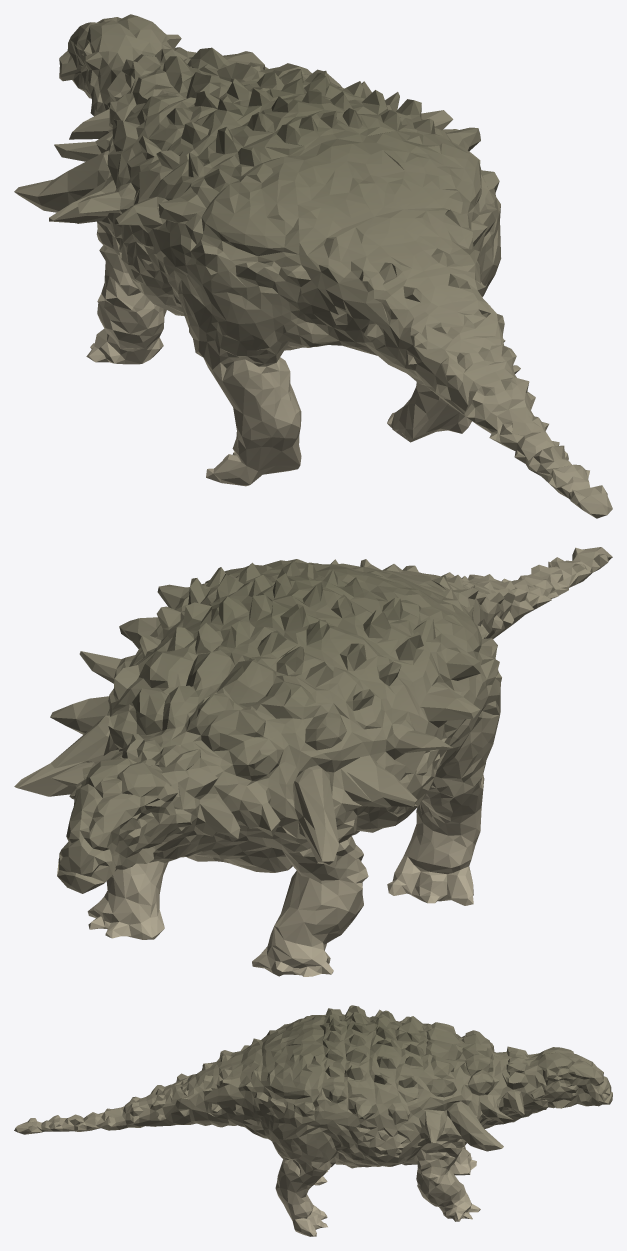
File: panoplosaurus.glb
3 renders of one model, top to bottom at view 1: azimuth 30°, elevation 25°; view 2: azimuth 150°, elevation 25°; view 3: azimuth 270°, elevation 25°, orthographic. The views are drawn at different scales.
Parts seen in each view (by area): view 1: mesh_0; view 2: mesh_0; view 3: mesh_0.
Boxes of the visible parts, <box> form: mesh_0: <box>14,14,612,518</box>; mesh_0: <box>14,547,612,976</box>; mesh_0: <box>14,1005,612,1236</box>.
Size of the model in its own units: 36.66 by 30.76 by 90.31.
